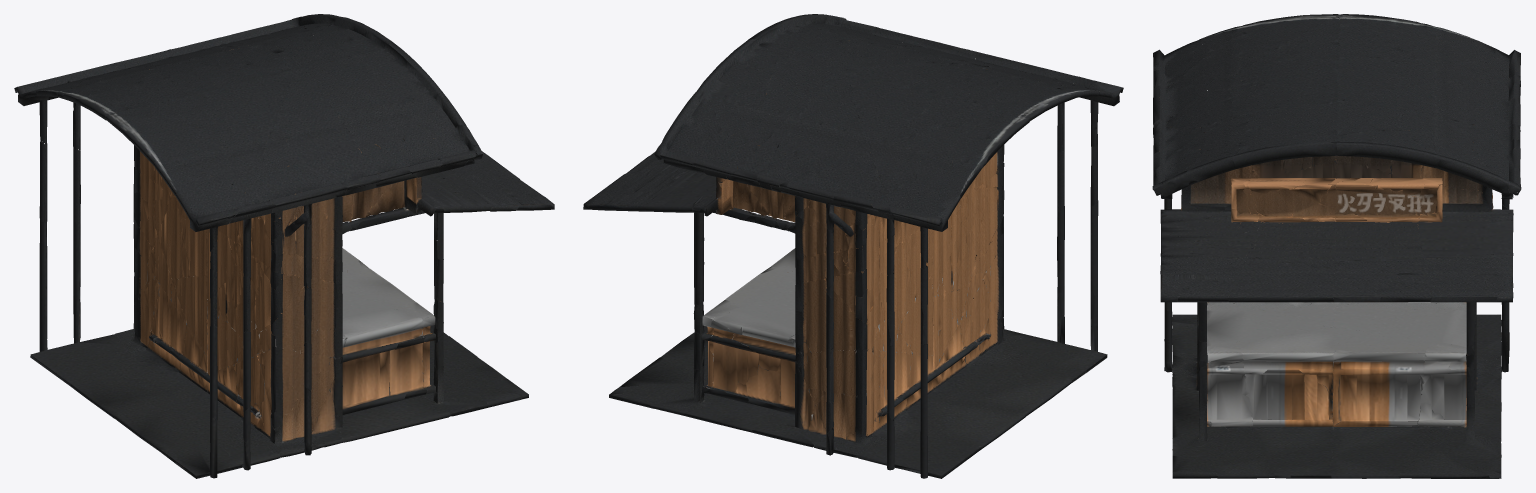
Rendered from market_stall_lod0.glb.
3 renders of one model, left to right at view 1: azimuth 30°, elevation 25°; view 2: azimuth 150°, elevation 25°; view 3: azimuth 270°, elevation 25°, orthographic.
Visible parts, largest first — view 1: Midori_Market_Stall_LOD0; view 2: Midori_Market_Stall_LOD0; view 3: Midori_Market_Stall_LOD0.
Boxes of the visible parts, bbox=[...] form: Midori_Market_Stall_LOD0: bbox=[14, 14, 554, 478]; Midori_Market_Stall_LOD0: bbox=[583, 14, 1123, 478]; Midori_Market_Stall_LOD0: bbox=[1152, 14, 1521, 478].
Size of the model in its own units: 2.4 by 1.98 by 2.15.
1 material, 1 textured.
